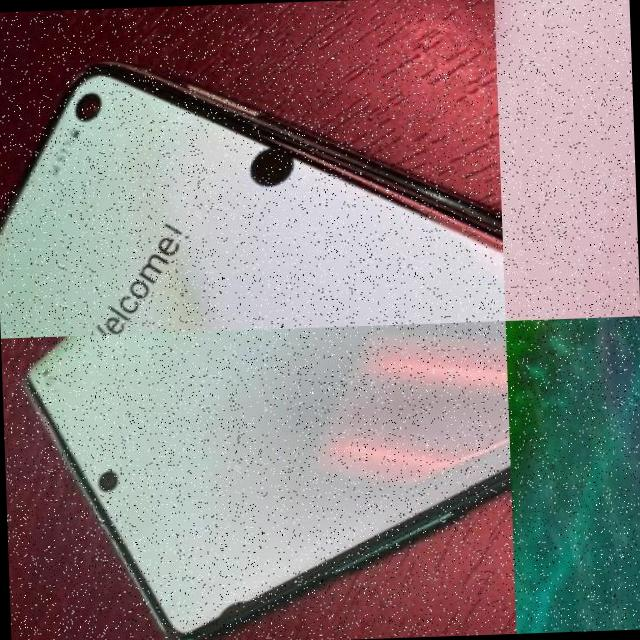dead pixel: (209, 134, 333, 210), (187, 576, 283, 640)
